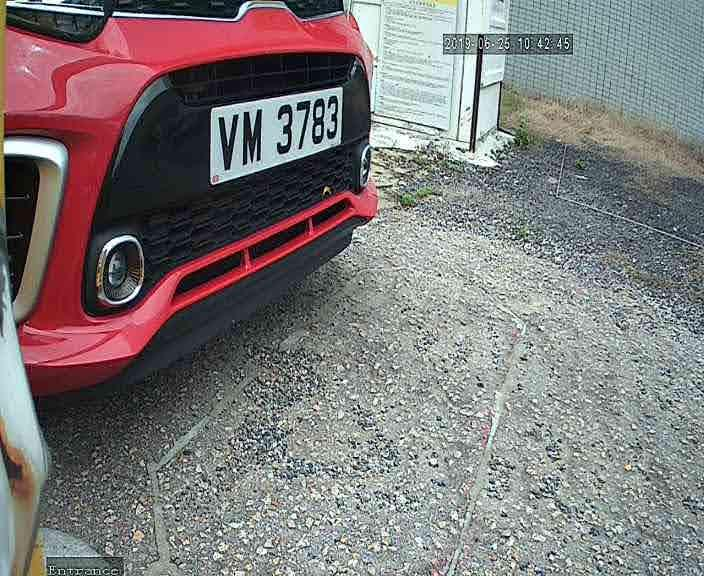privatecar: (4, 2, 395, 411)
